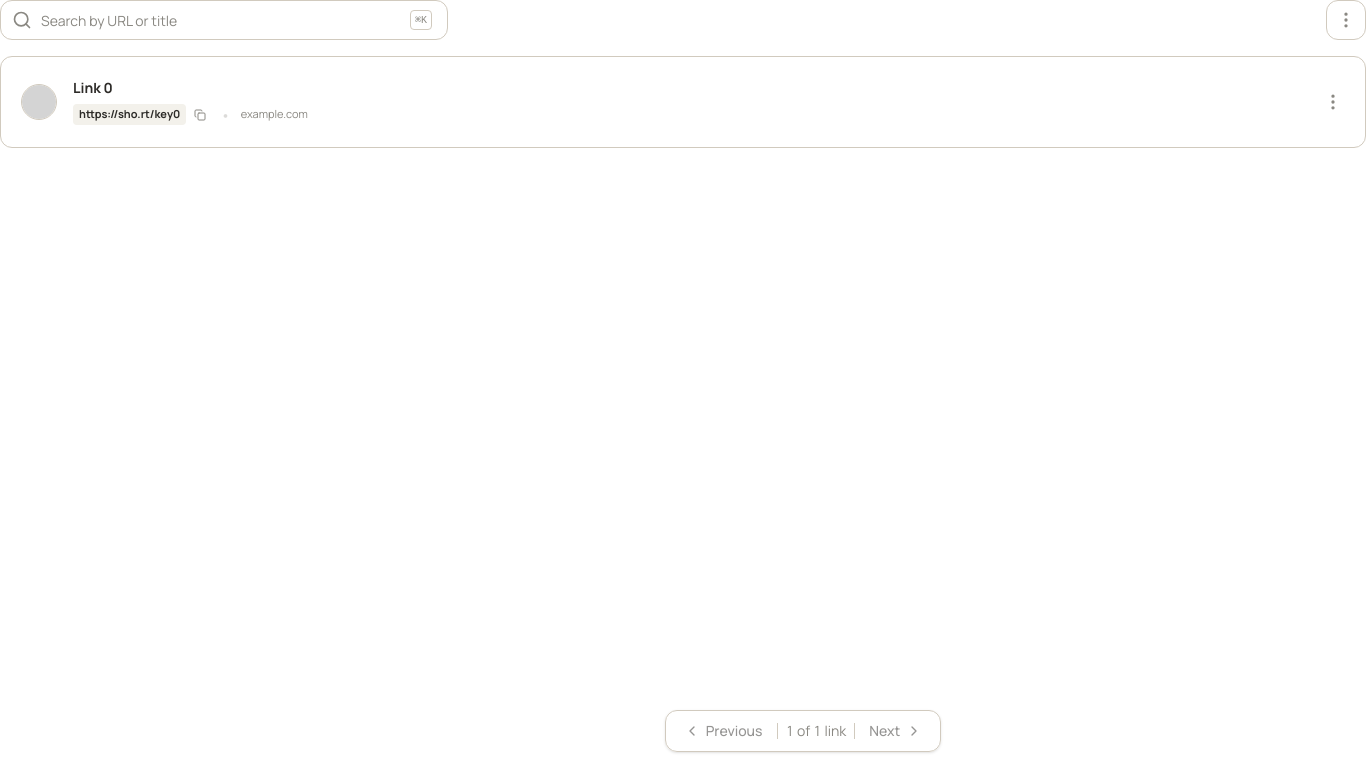
it: links page › link actions › opens the edit form prefilled with the link
Expected: the heading "Link 0" is shown, [73, 78, 113, 97]
Click the button named "More actions for link".
click(1333, 102)  # box [1317, 88, 1349, 116]
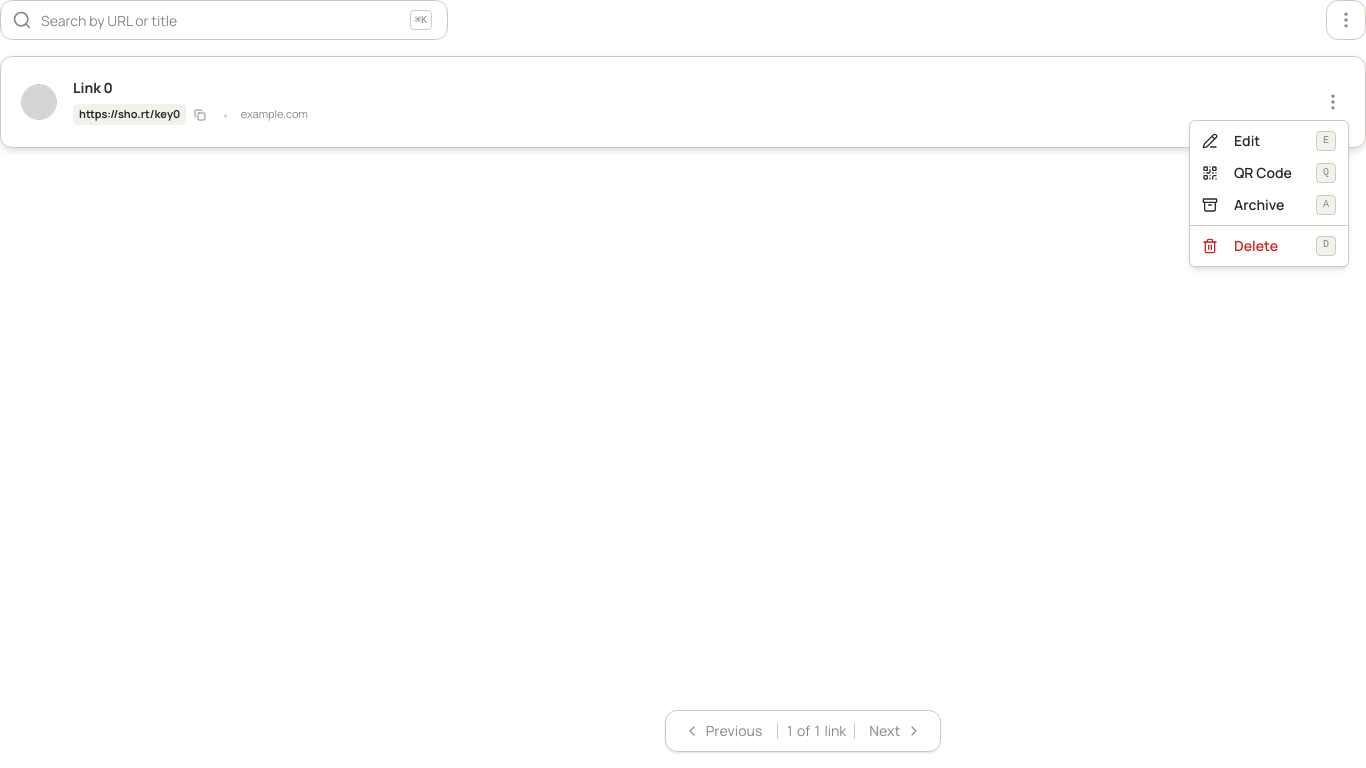
Click the menu item "Edit E".
click(1210, 141)  # box [1194, 125, 1344, 157]
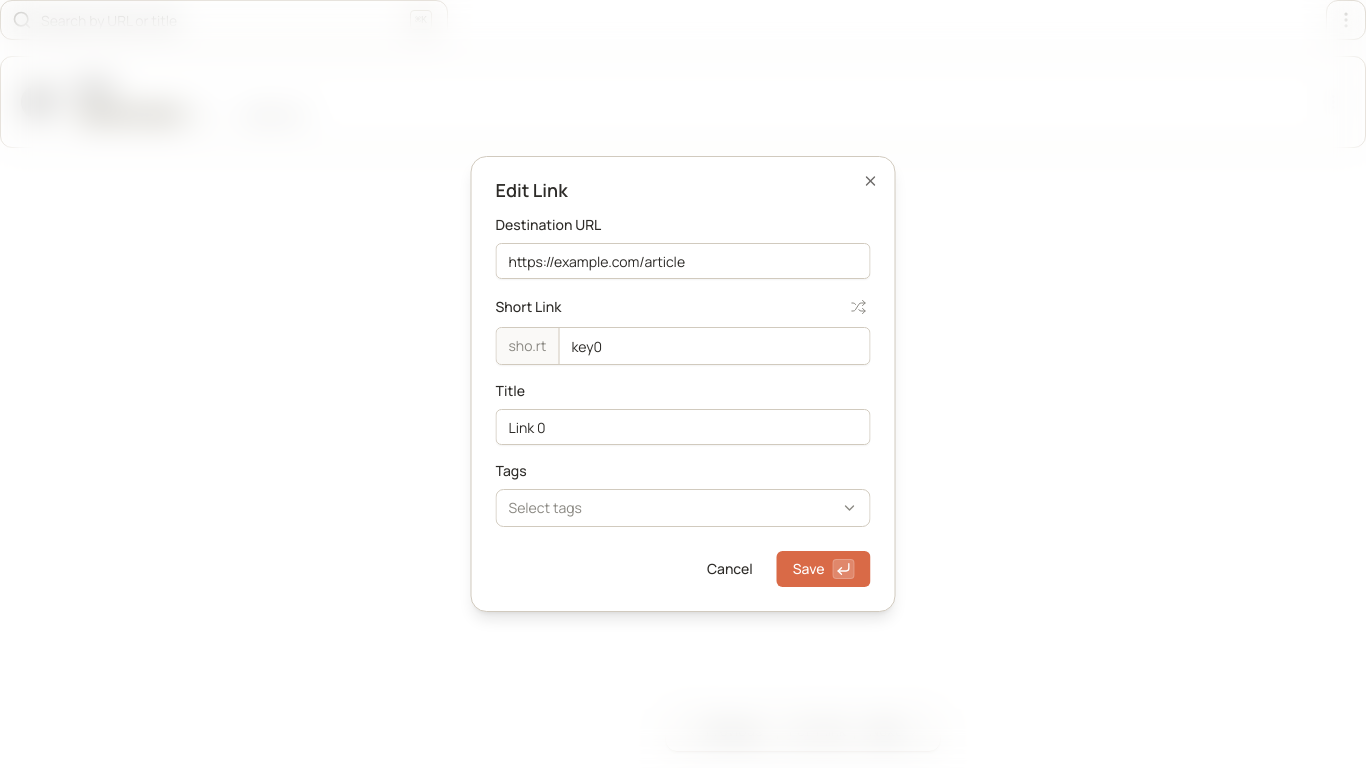
Expected: the dialog "Edit Link" is shown, [470, 156, 896, 612]
Expected: the field labelled "Short Link" holds "key0", [559, 328, 870, 364]
